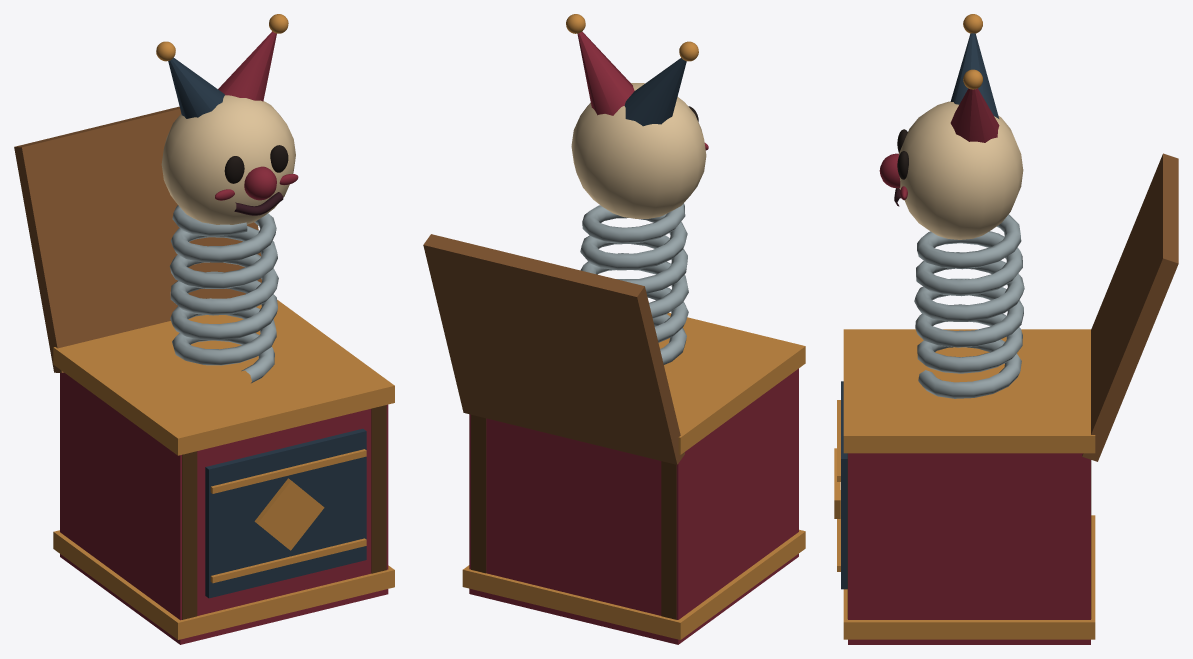
Rendered from mia-jack_box.glb.
3 renders of one model, left to right at view 1: azimuth 30°, elevation 25°; view 2: azimuth 150°, elevation 25°; view 3: azimuth 270°, elevation 25°, orthographic.
Visible parts, largest first — view 1: Body_brass, Body_velvet, Body_oak, Body_navy-seat, Body_steel, Body_ivory, Body_wood, Body_black; view 2: Body_velvet, Body_oak, Body_brass, Body_ivory, Body_steel, Body_wood, Body_navy-seat; view 3: Body_velvet, Body_brass, Body_steel, Body_oak, Body_ivory, Body_navy-seat.
Boxes of the visible parts, x1,y1,x2,y2 form: Body_brass: (53, 14, 394, 639); Body_velvet: (60, 31, 388, 644); Body_oak: (14, 106, 261, 372); Body_navy-seat: (168, 57, 366, 598); Body_steel: (169, 205, 278, 383); Body_ivory: (161, 95, 295, 224); Body_wood: (182, 405, 386, 619); Body_black: (224, 145, 288, 183); Body_velvet: (469, 31, 798, 644); Body_oak: (423, 234, 684, 464); Body_brass: (462, 14, 805, 639); Body_ivory: (571, 83, 706, 218); Body_steel: (580, 203, 688, 364); Body_wood: (471, 414, 676, 619); Body_navy-seat: (624, 58, 686, 126); Body_velvet: (848, 88, 1090, 644); Body_brass: (834, 14, 1095, 639); Body_steel: (914, 214, 1024, 398); Body_oak: (1082, 153, 1178, 461); Body_ivory: (898, 101, 1023, 239); Body_navy-seat: (841, 33, 999, 589).
Size of the model in its own units: 0.831 by 2 by 1.13.
